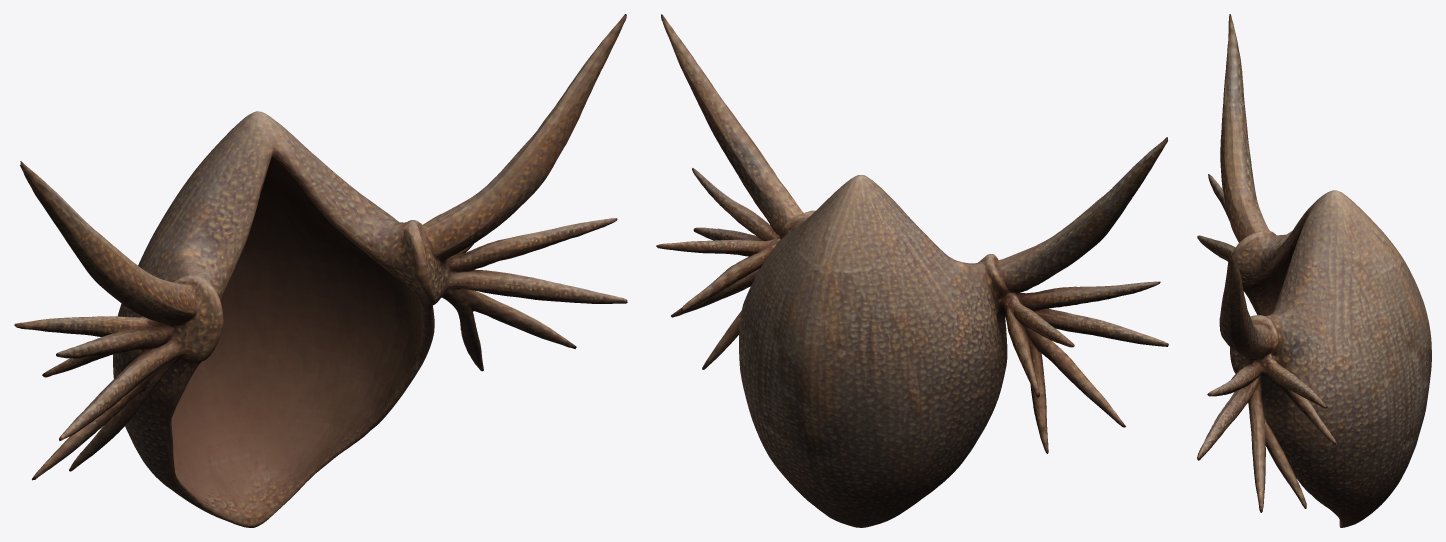
The picture shows the model from 3 angles, left to right: view 1: azimuth 30°, elevation 25°; view 2: azimuth 150°, elevation 25°; view 3: azimuth 270°, elevation 25°; orthographic projection. The views are drawn at different scales.
Visible parts, largest first — view 1: world; view 2: world; view 3: world.
Boxes of the visible parts, <box> form: world: <box>14,14,627,527</box>; world: <box>656,14,1168,527</box>; world: <box>1197,14,1431,527</box>.
Size of the model in its own units: 0.9992 by 0.7719 by 0.4177.
Materials: 1 (1 with a texture image).
